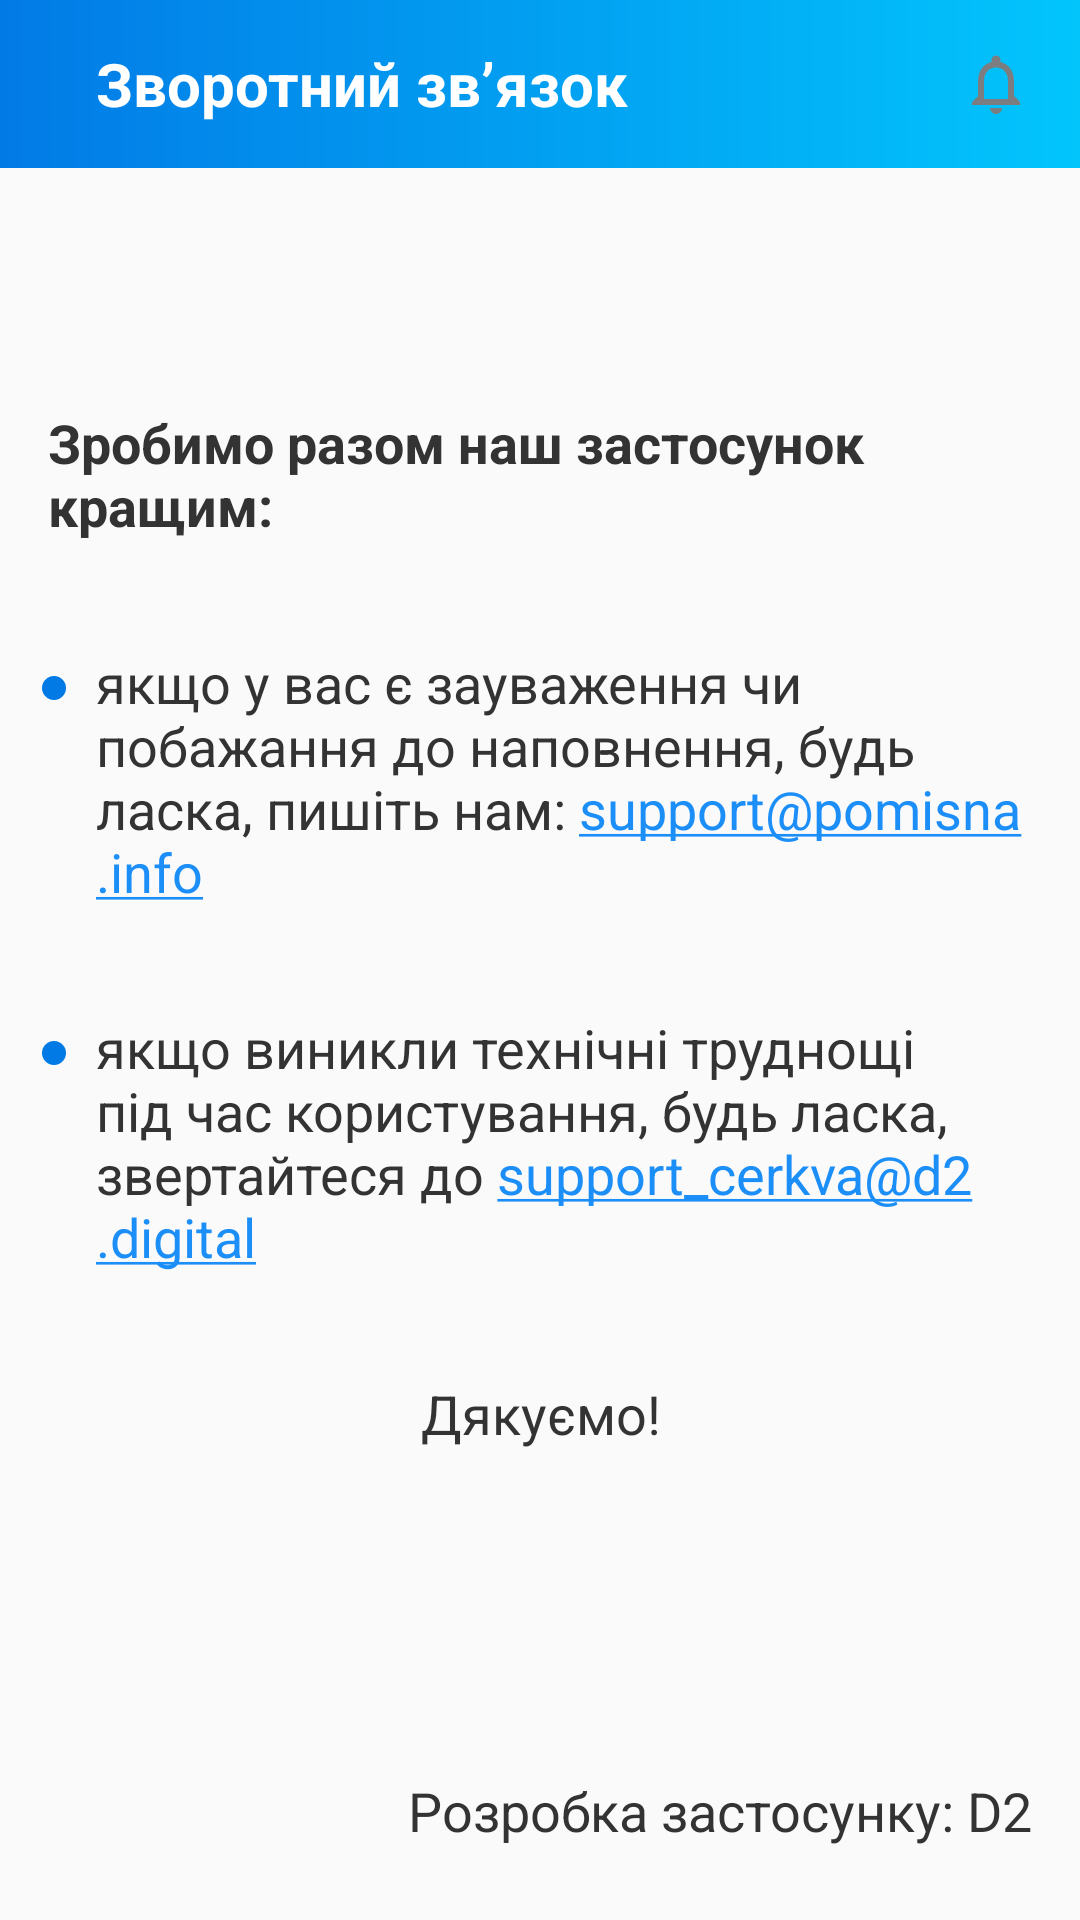

Screen size 1080w x 1920h. Icon name, then its box in pixels as (x1, y1, x2, y2):
notifications none: (972, 55, 1020, 114)
